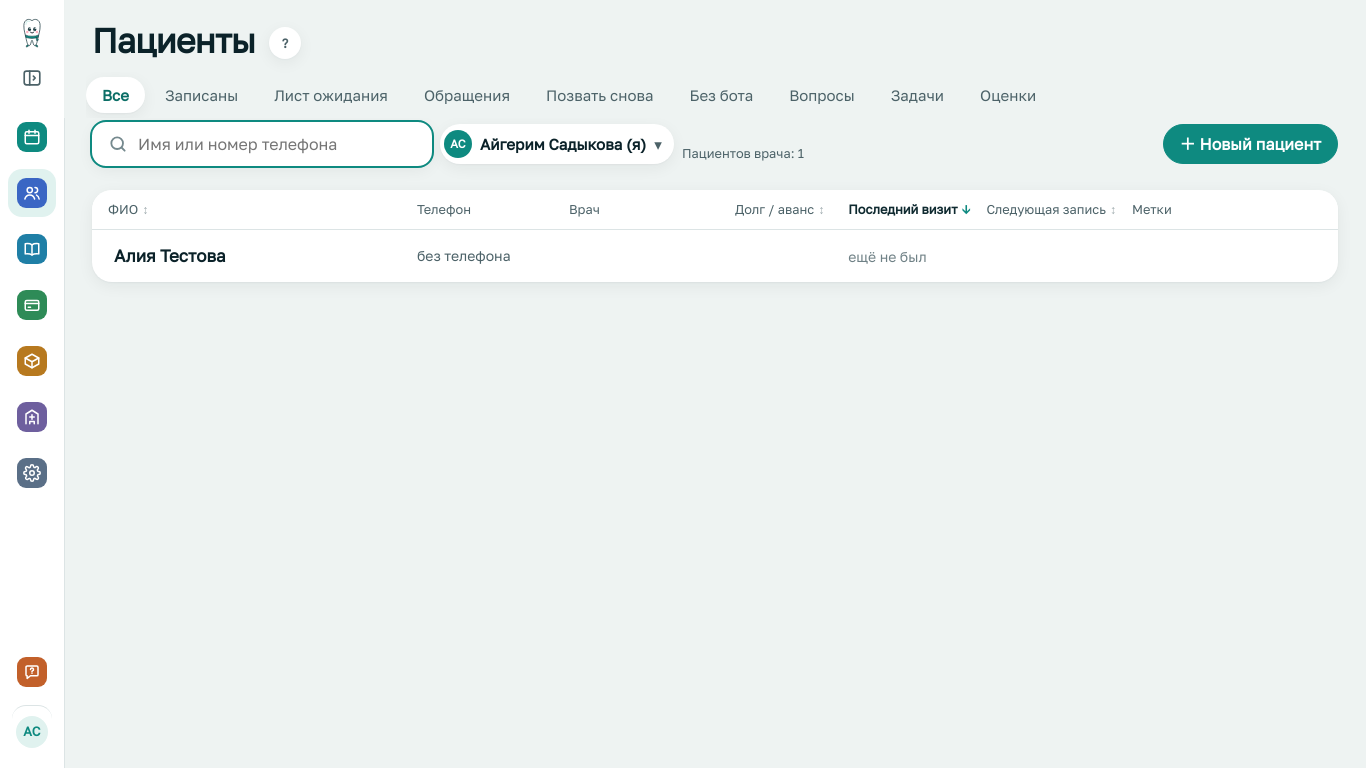
ребёнок без своего номера: шапка «Ребёнок, 7 лет · без бота — WhatsApp», без «· 7 лет» в начале и без второго возраста
This screenshot has width=1366, height=768.
Click the button "Алия Тестова" at (170,256), box [114,243,226,269]
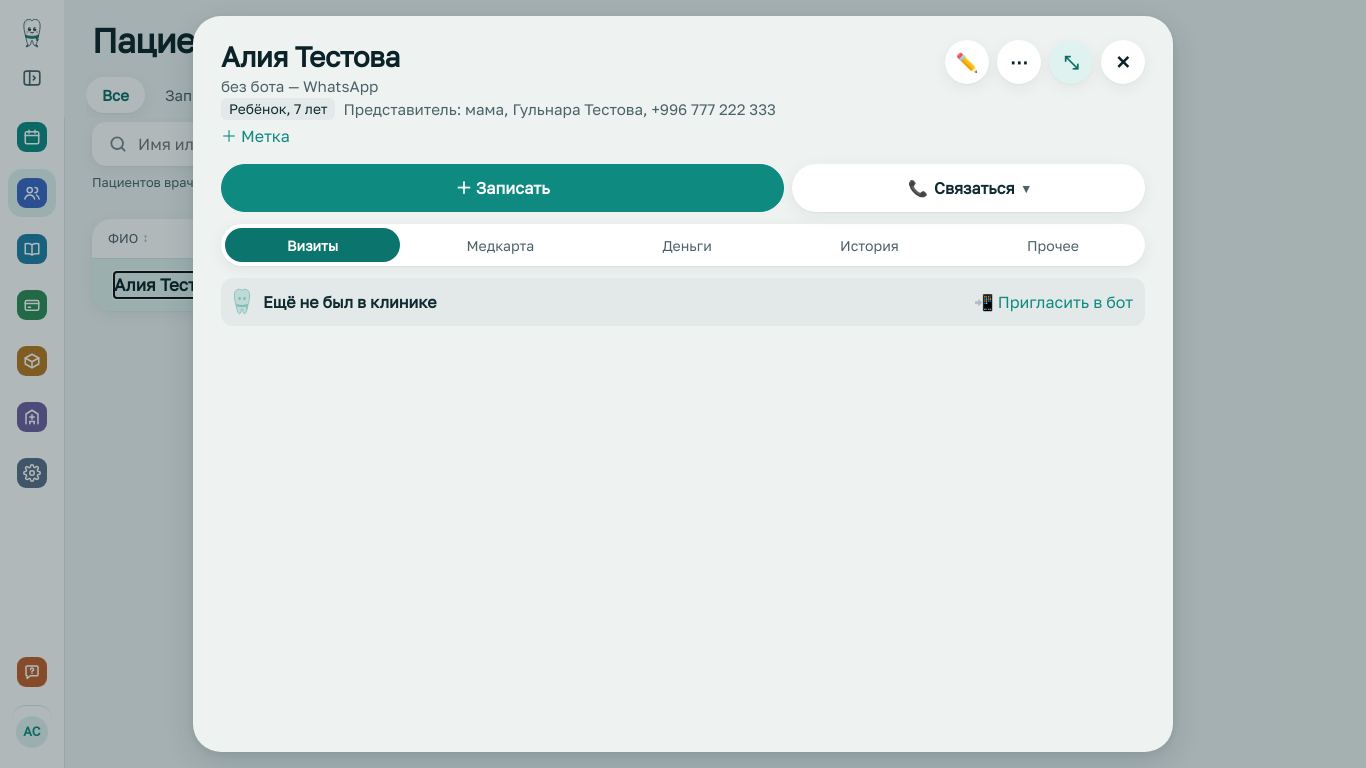
Now the element with class "hint" reads "без бота — WhatsApp", box [221,77,378,95]
Now the header shows "Ребёнок, 7 лет", box [229,101,328,117]
Now the header shows "Представитель: мама, Гульнара Тестова, +996 777 222 333", box [344,100,776,118]
